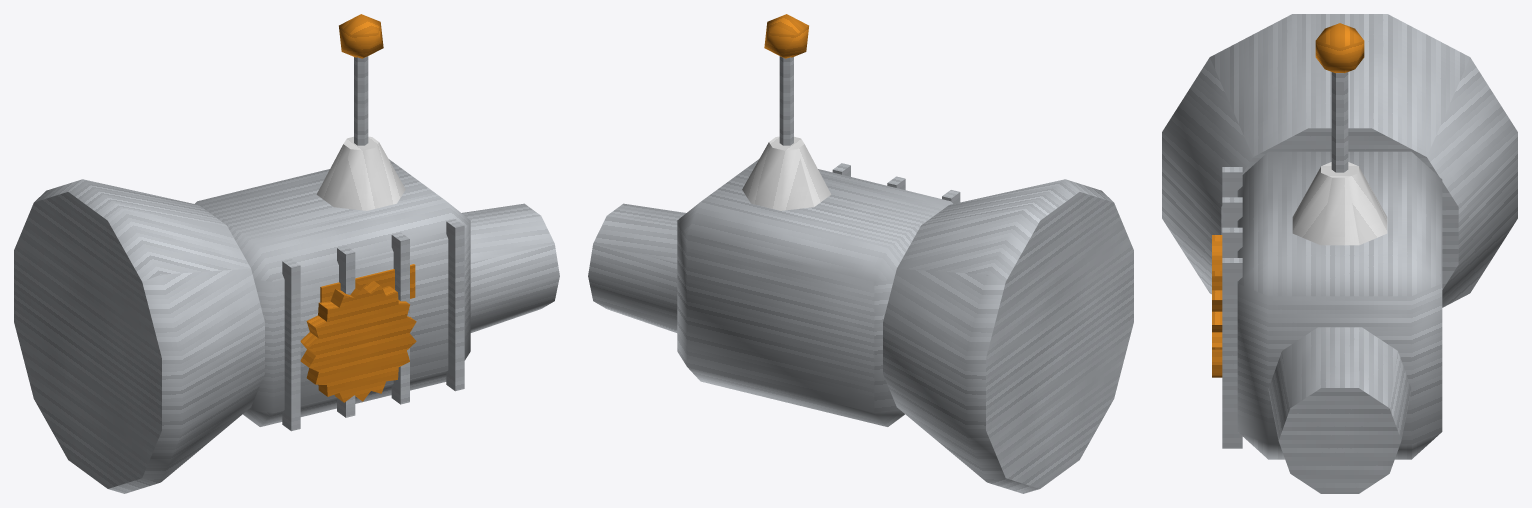
File: cambio_n3.glb
3 renders of one model, left to right at view 1: azimuth 30°, elevation 25°; view 2: azimuth 150°, elevation 25°; view 3: azimuth 270°, elevation 25°, orthographic. The views are drawn at different scales.
Parts seen in each view (by area): view 1: cambio_n3; view 2: cambio_n3; view 3: cambio_n3.
Part boxes in pixels (<box>): cambio_n3: <box>14,14,559,493</box>; cambio_n3: <box>588,14,1133,493</box>; cambio_n3: <box>1162,14,1517,493</box>.
Bounding box in the file's own units: 0.57 × 0.4919 × 0.3477.
3 materials, 3 textured.
